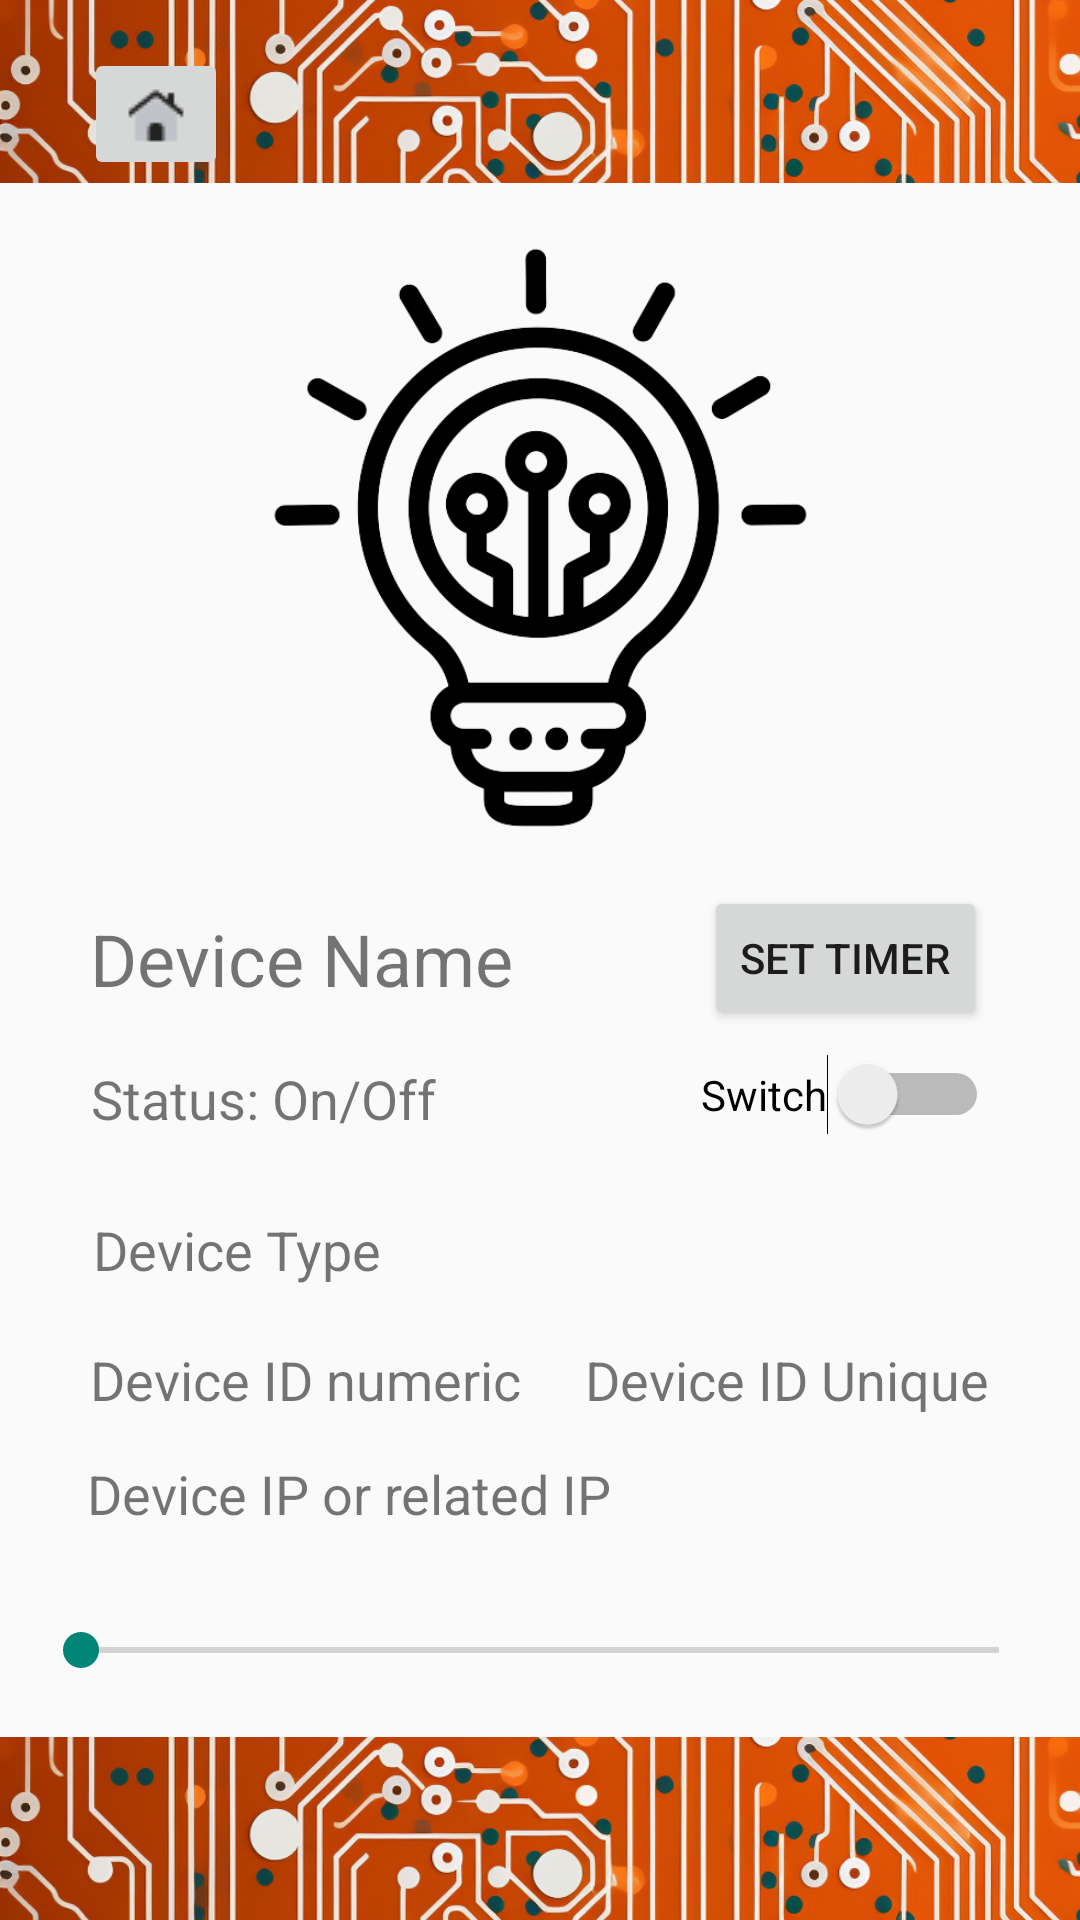

Where to tap for icons on this 1080 x 1920 app screen, as [x,y]:
home duotone: [156,114]
